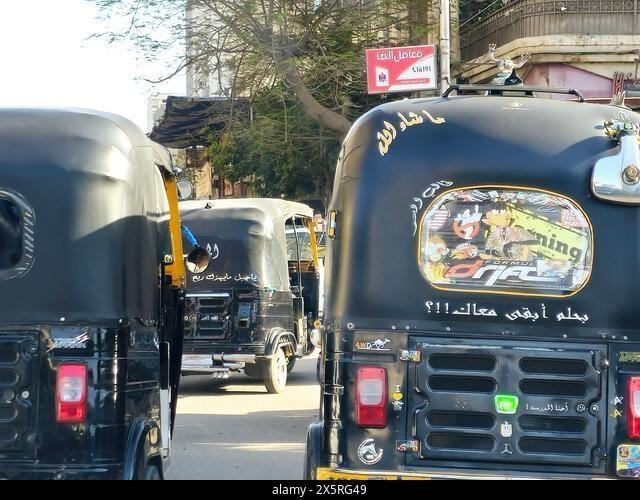keke: (311, 82, 633, 497), (0, 107, 182, 484)
